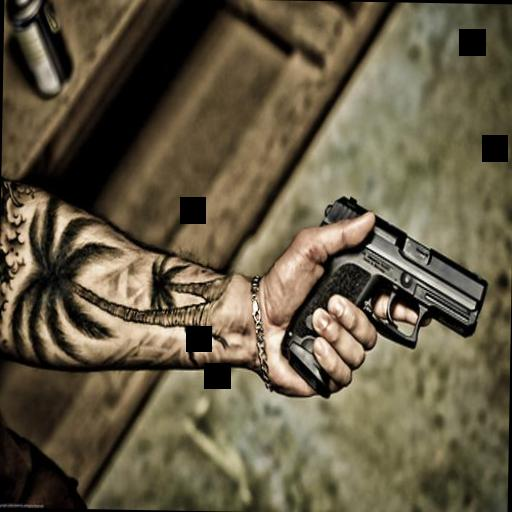Handgun: (275, 193, 489, 393)
